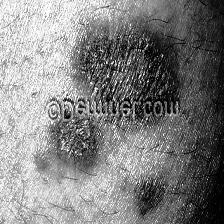Non-Cancerous Skin Condition: (12, 124, 191, 224), (76, 4, 188, 92)
